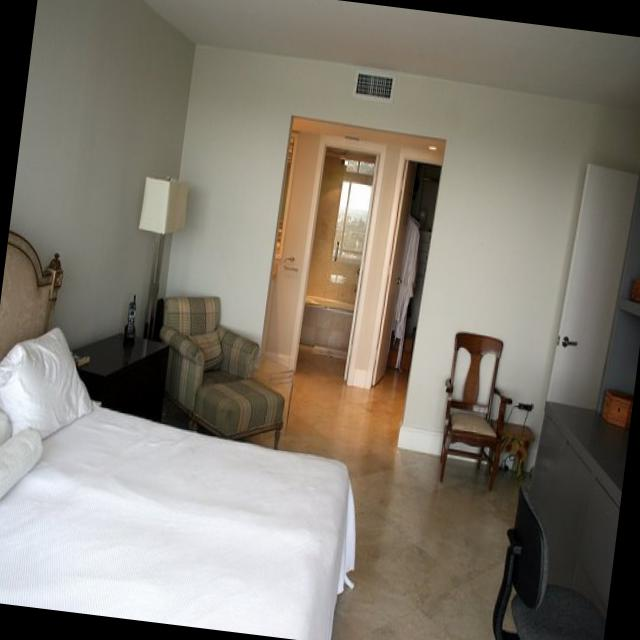2001: (326, 180, 373, 262)
armchair crop: (158, 295, 284, 446)
bathroom sink: (266, 132, 392, 395)
bathtub: (298, 291, 352, 351)
bed -occluded-: (0, 240, 347, 639)
ceiling beam: (145, 0, 640, 106)
chair -occluded-: (487, 476, 603, 640), (437, 328, 510, 484)
door bars: (545, 163, 637, 410)
lamp crop: (136, 171, 189, 339)
molding: (400, 428, 439, 456)
phone charger: (123, 293, 136, 338)
pillow occluded: (0, 326, 93, 439)
vent -x: (352, 72, 396, 100)
wardrobe part: (363, 162, 440, 407)
